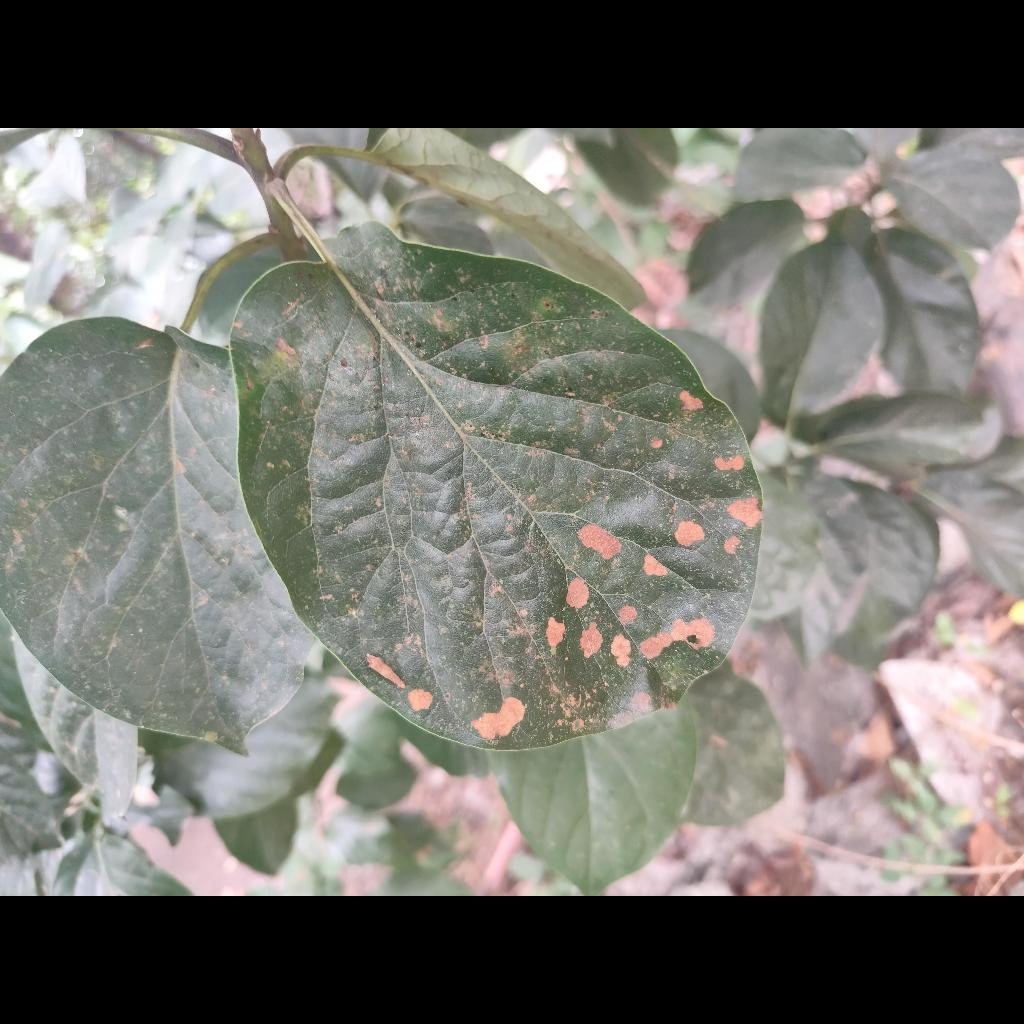antracnosis_hoja: (231, 223, 761, 749)
